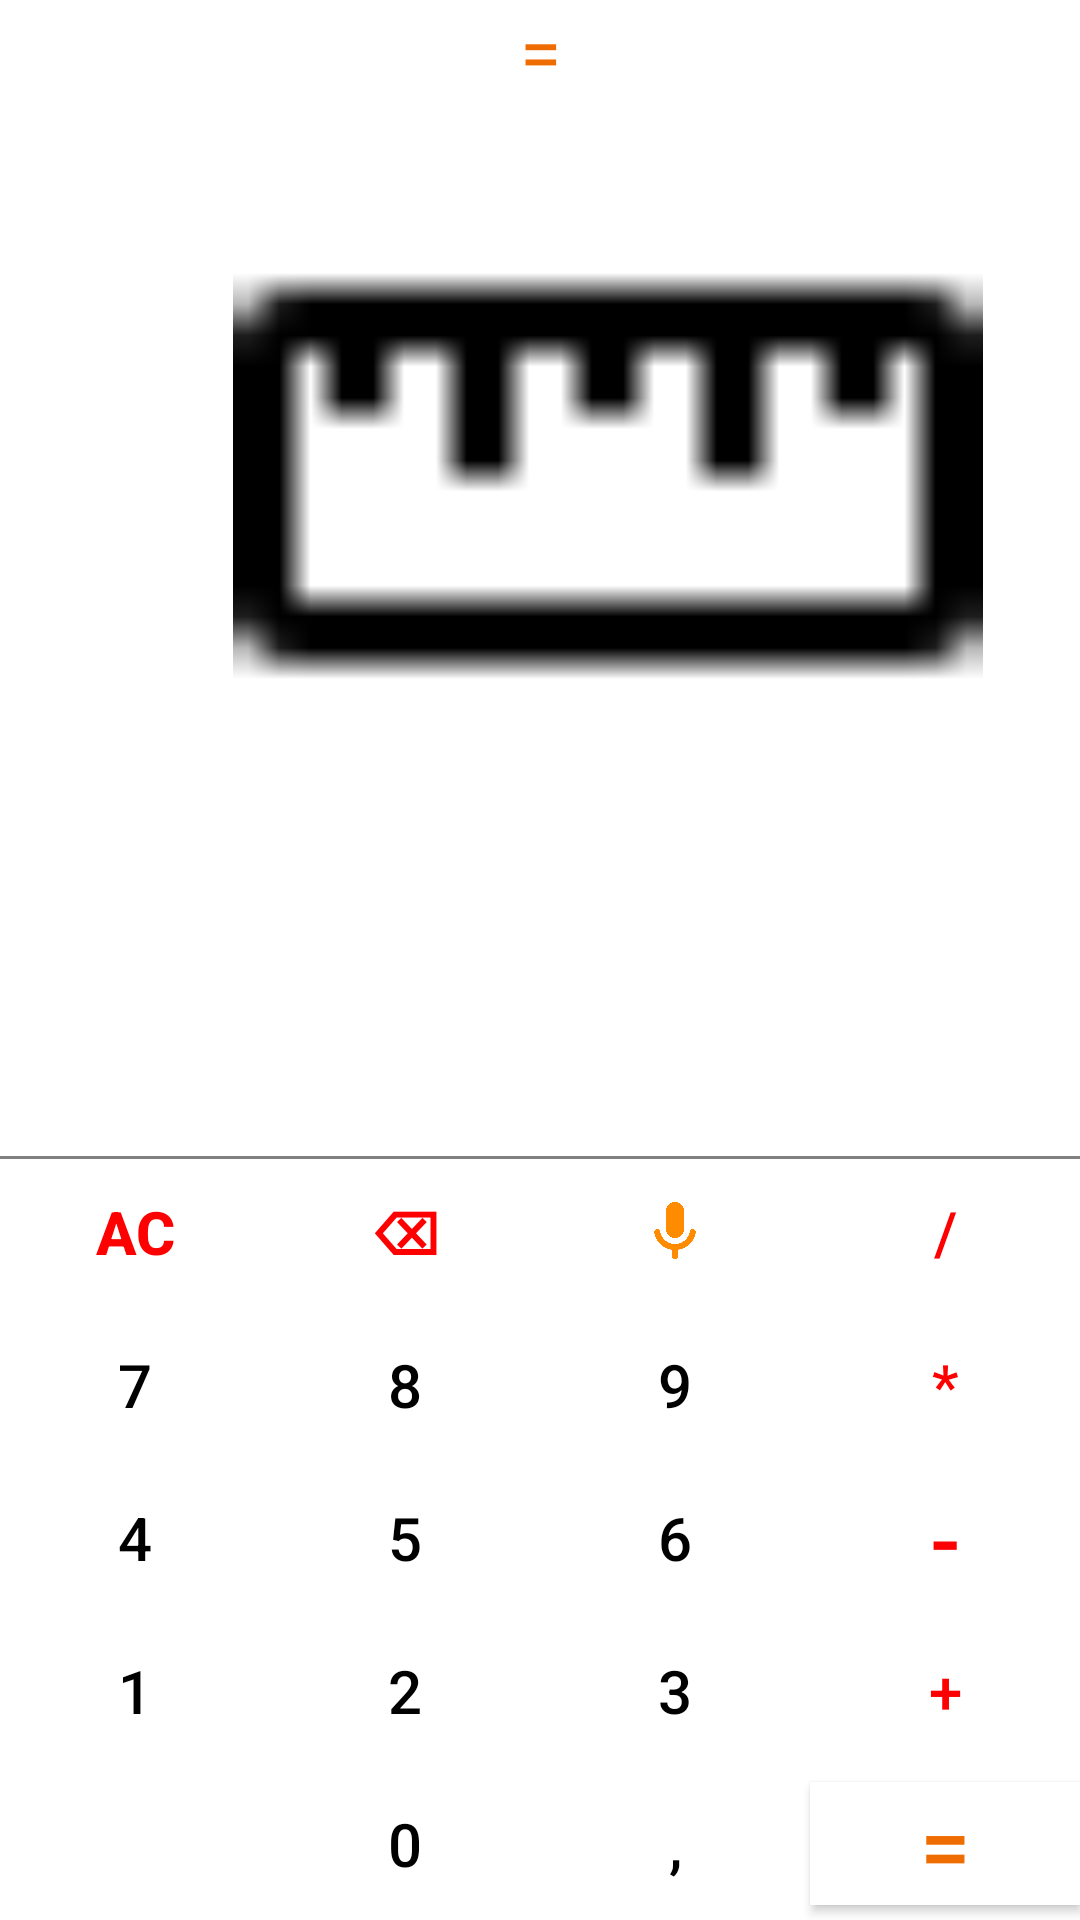

Where to tap for icons on this 1080px×1920px app screen, as [x,y]:
void mic: [675,1230]
